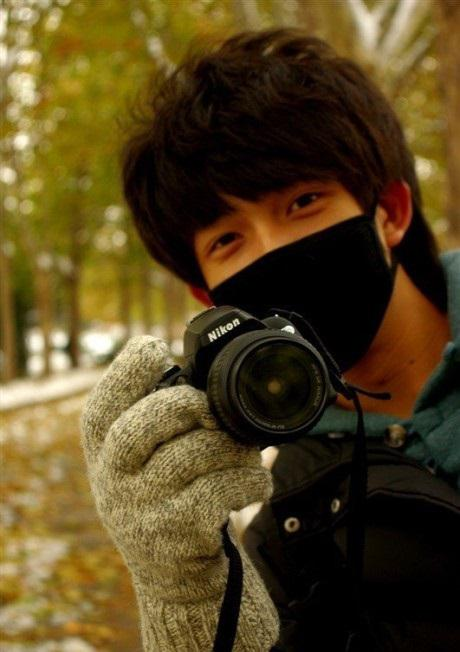OK: (200, 176, 400, 371)
